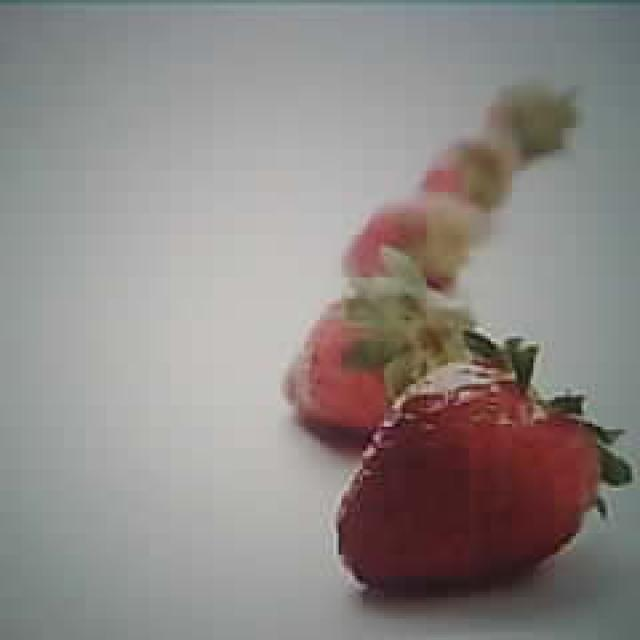strawberry: (335, 367, 603, 587)
